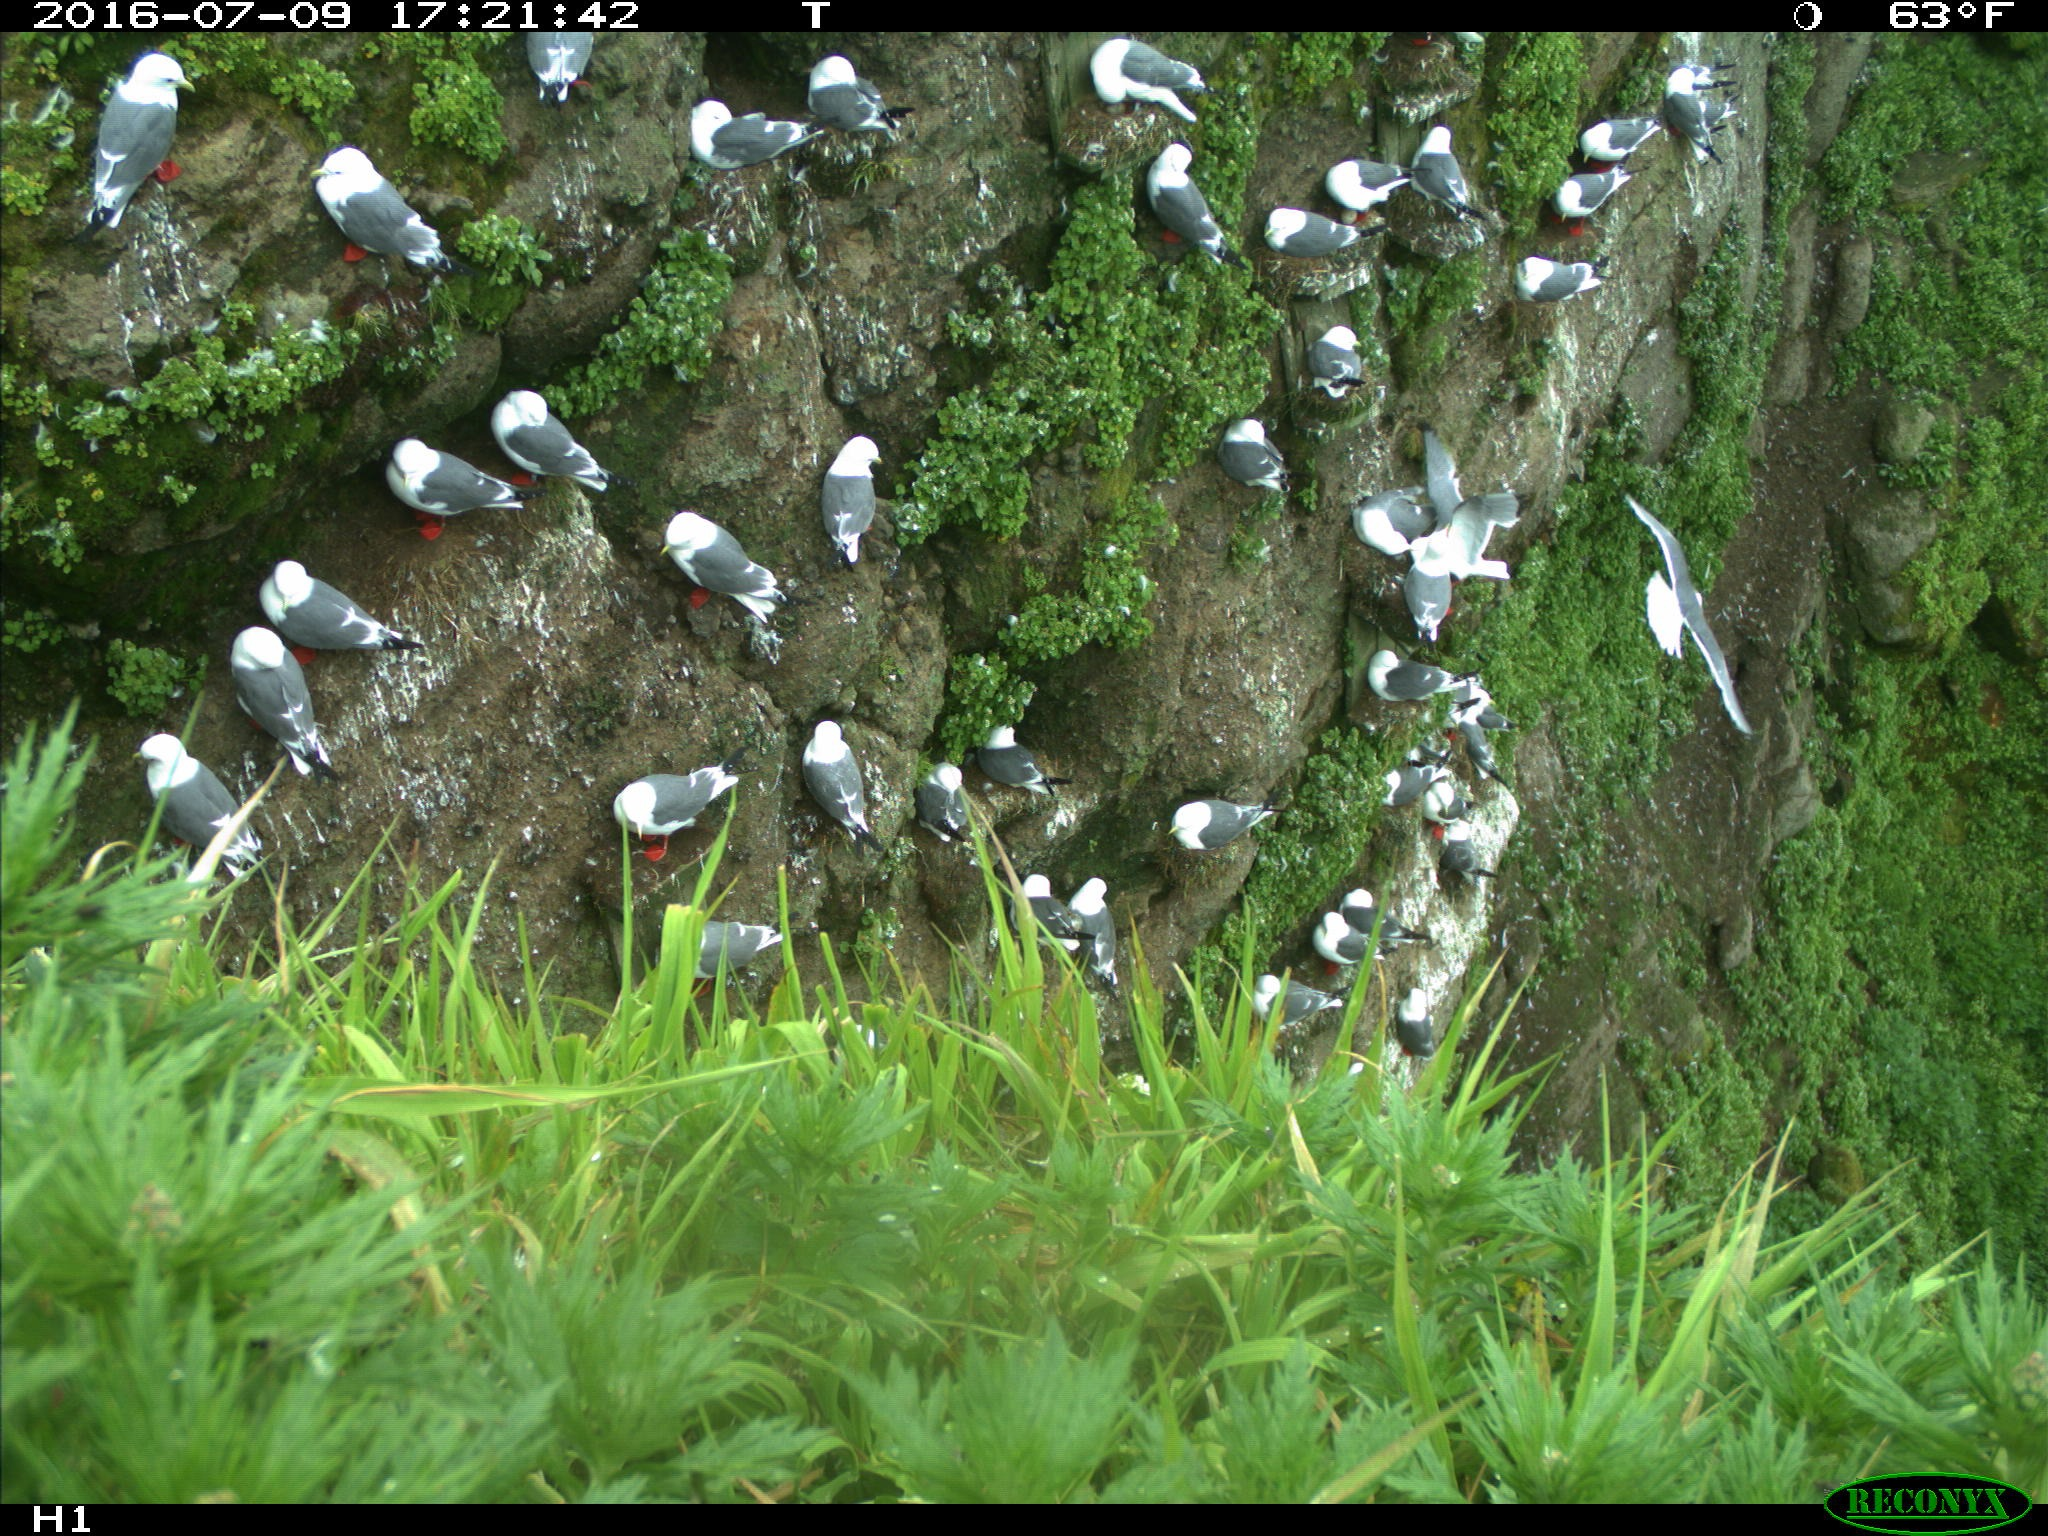Kittiwake: (55, 39, 227, 245), (305, 124, 455, 331), (368, 424, 550, 565), (231, 552, 452, 665), (206, 605, 335, 795), (145, 678, 271, 866), (655, 495, 790, 637), (640, 884, 806, 995), (477, 374, 616, 507), (1129, 132, 1255, 271), (1059, 44, 1242, 139), (789, 703, 897, 857), (658, 89, 847, 174), (789, 45, 924, 157), (1401, 102, 1508, 229), (1400, 532, 1530, 634), (1535, 157, 1680, 244), (806, 424, 885, 576), (1646, 66, 1742, 189), (1243, 186, 1384, 266), (1001, 858, 1100, 971), (601, 747, 703, 855), (1500, 242, 1646, 313), (1334, 473, 1429, 578), (1156, 783, 1287, 858), (1068, 850, 1134, 999), (972, 697, 1056, 812), (1324, 866, 1434, 954), (1213, 399, 1306, 499), (1347, 644, 1467, 720), (913, 742, 987, 858), (1237, 958, 1350, 1034), (516, 24, 605, 118), (1305, 153, 1401, 232), (1356, 744, 1464, 808), (1284, 913, 1405, 970), (1301, 321, 1371, 416), (1563, 102, 1646, 174), (1430, 774, 1479, 868)
